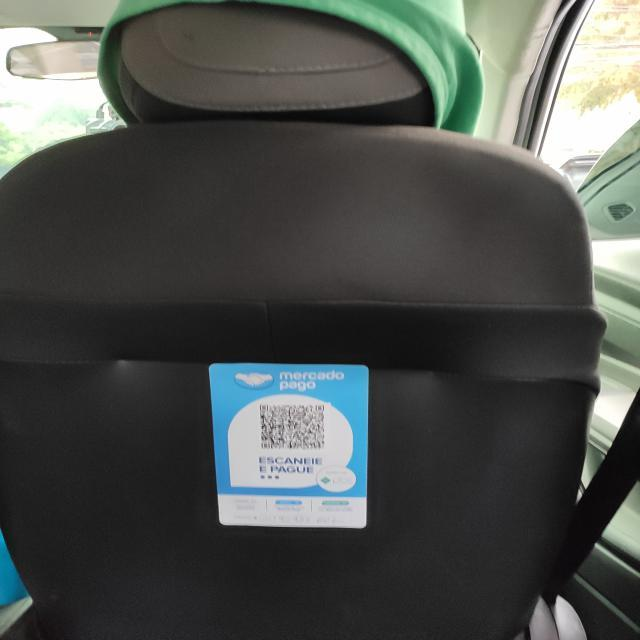qrcode: (261, 406, 325, 451)
